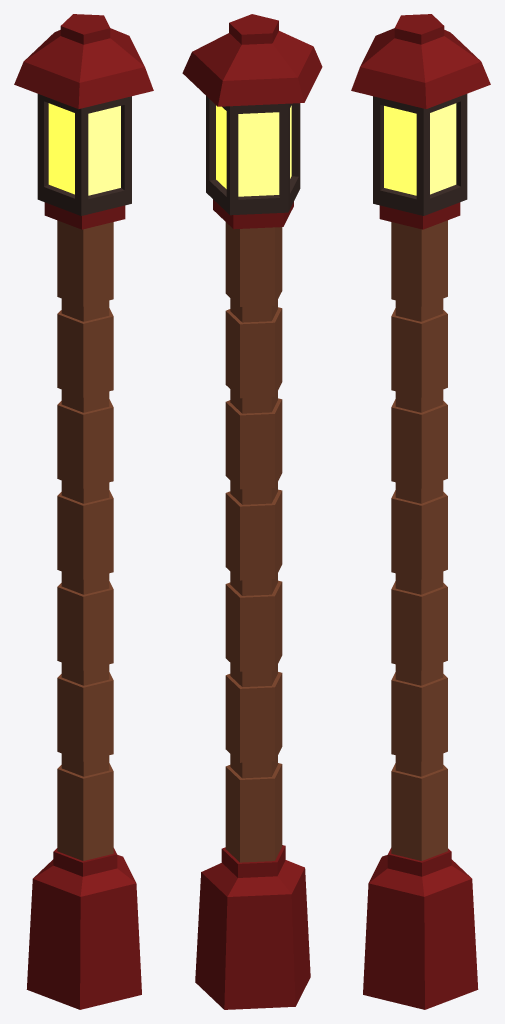
The model's file is village_pack_light.glb.
The picture shows the model from 3 angles, left to right: view 1: azimuth 30°, elevation 25°; view 2: azimuth 150°, elevation 25°; view 3: azimuth 330°, elevation 25°; orthographic projection.
Parts seen in each view (by area): view 1: light_iron 1_0; view 2: light_iron 1_0; view 3: light_iron 1_0.
Boxes of the visible parts, x1,y1,x2,y2 form: light_iron 1_0: [14, 14, 153, 1009]; light_iron 1_0: [182, 14, 322, 1009]; light_iron 1_0: [351, 14, 490, 1009].
Bounding box in the file's own units: 0.3165 × 2.39 × 0.3009.
